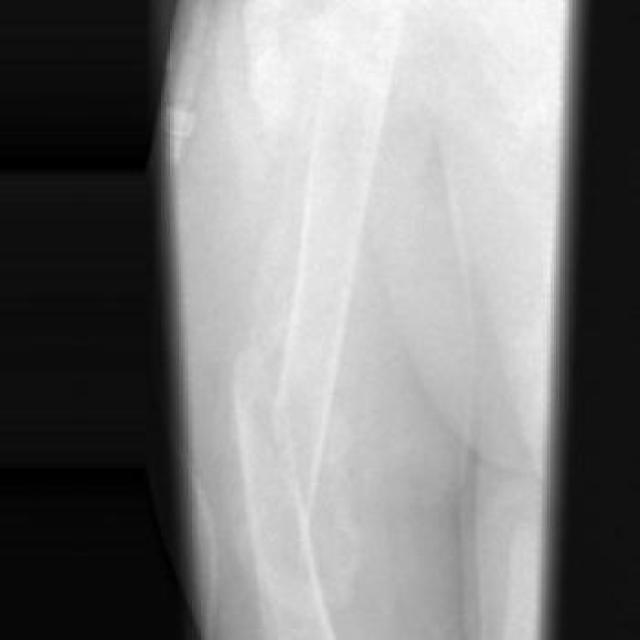Fracture: (212, 344, 344, 503)
